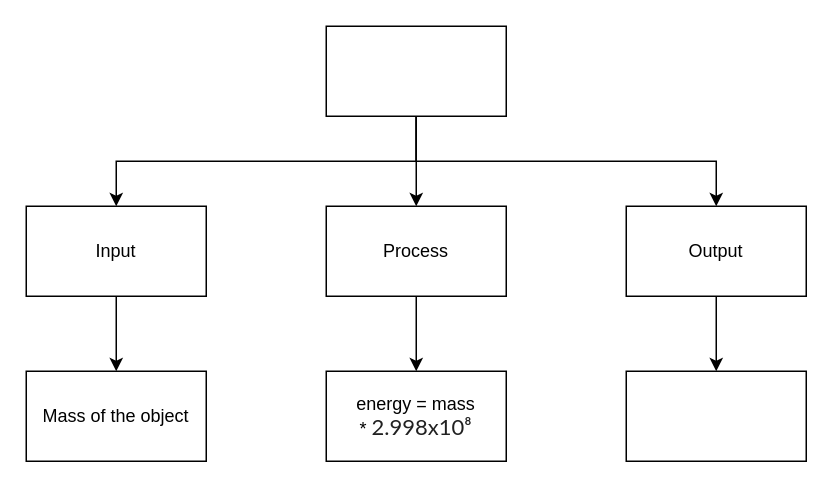
This 833x488 diagram has some shape labels left out. The centre of each missing label's shape, as x and y in pixels:
energy: (x=715, y=415)
Energy Calculation: (x=415, y=70)
